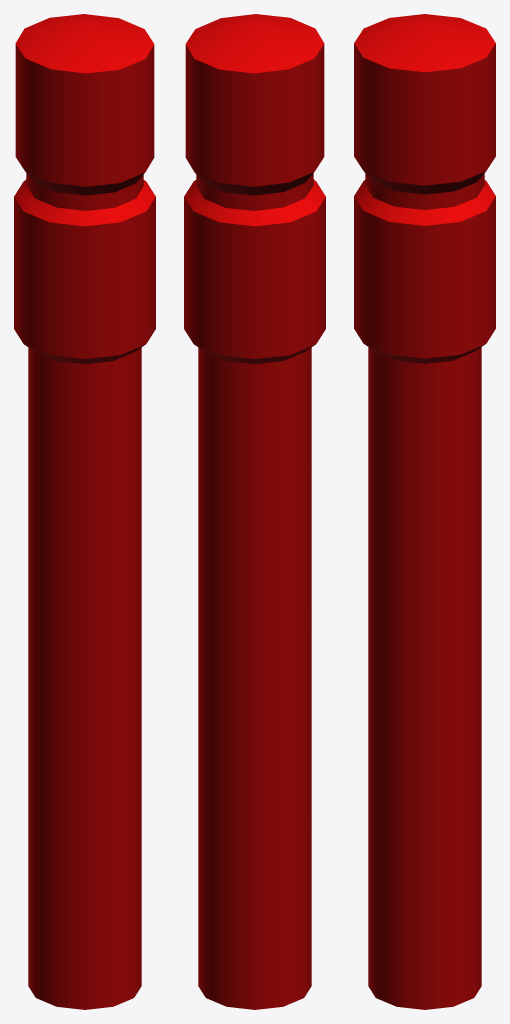
3 renders of one model, left to right at view 1: azimuth 30°, elevation 25°; view 2: azimuth 150°, elevation 25°; view 3: azimuth 270°, elevation 25°, orthographic.
Visible parts, largest first — view 1: Joint_0_Object_0; view 2: Joint_0_Object_0; view 3: Joint_0_Object_0.
Boxes of the visible parts, bbox=[...] form: Joint_0_Object_0: bbox=[14, 14, 155, 1009]; Joint_0_Object_0: bbox=[184, 14, 325, 1009]; Joint_0_Object_0: bbox=[354, 14, 495, 1009].
Size of the model in its own units: 250 by 1867 by 250.
Materials: 1 (1 with a texture image).
